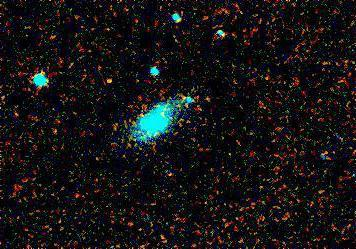star: (93, 64, 123, 94)
